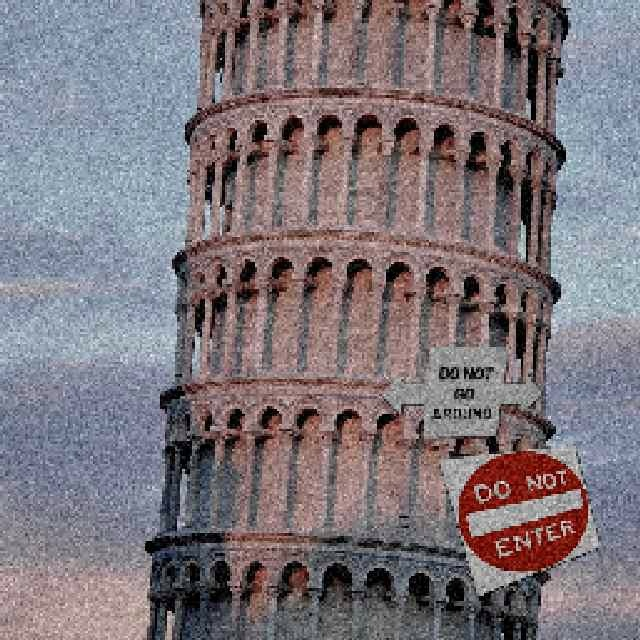DO_NOT_ENTER: (435, 442, 600, 596)
DO_NOT_GO_AROUND: (377, 343, 542, 437)
